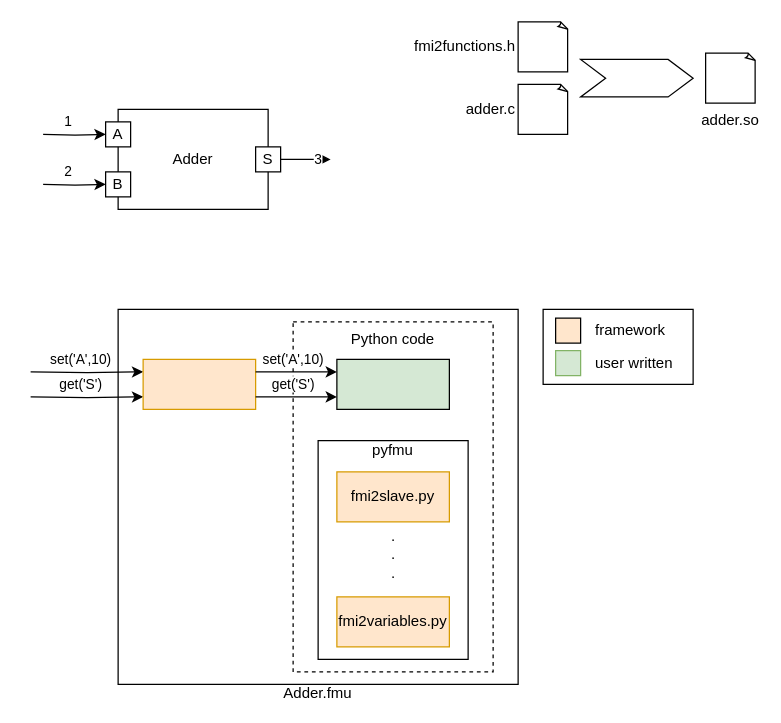
This 781x723 diagram has some shape labels left out. The shapes that lost their labels are listed below. From the top down, each one's centre as x and y in pixels, then its label:
(636,77): compile
(199,383): libpyfmu.dll
(392,383): Adder.py
